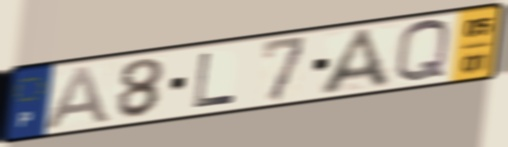7: (260, 32, 308, 105)
8: (115, 56, 166, 120)
A: (316, 25, 395, 98), (41, 64, 115, 132)
L: (190, 50, 238, 110)
Q: (392, 17, 453, 86)
